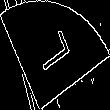L_SW: (33, 29, 77, 81)
